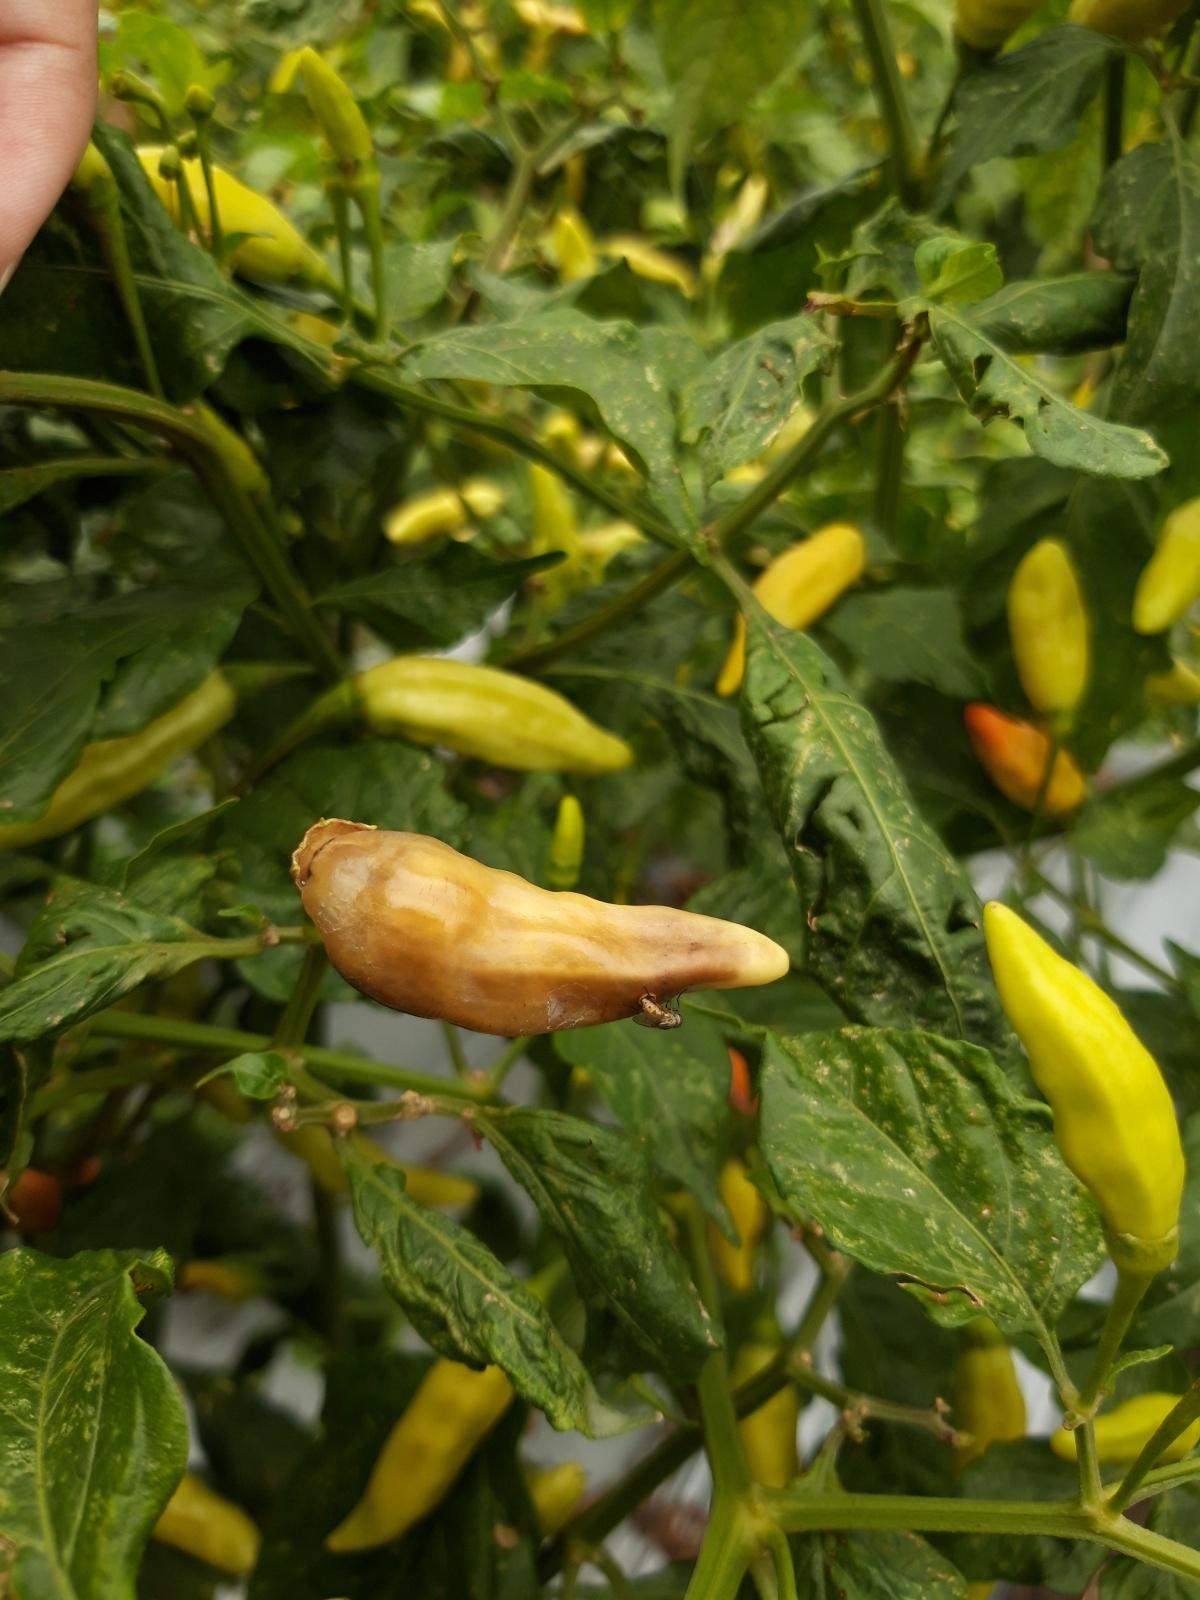cabai_normal: (979, 901, 1189, 1272), (325, 1301, 532, 1553), (342, 656, 632, 776), (82, 147, 301, 287), (713, 523, 865, 694), (1003, 540, 1090, 716), (963, 698, 1083, 821), (1050, 1390, 1200, 1473), (297, 45, 374, 174)
lalat_buah: (286, 810, 795, 1038)
